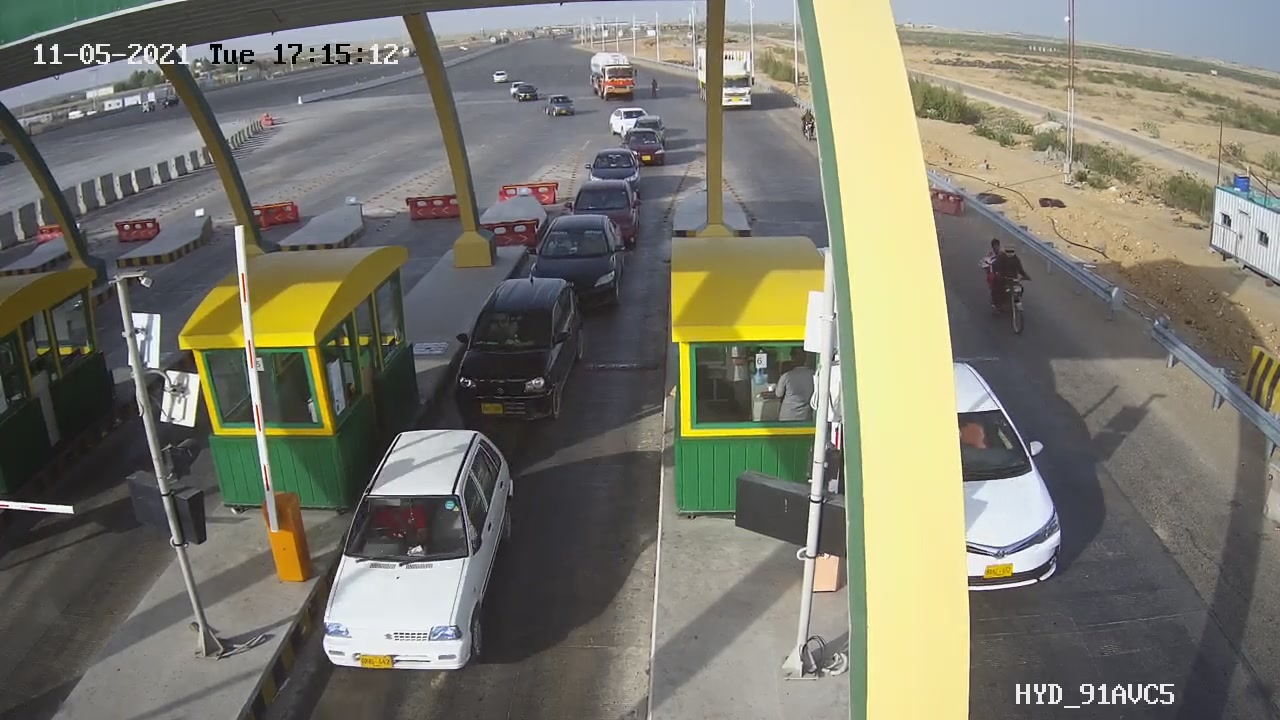F1: (439, 265, 605, 435)
